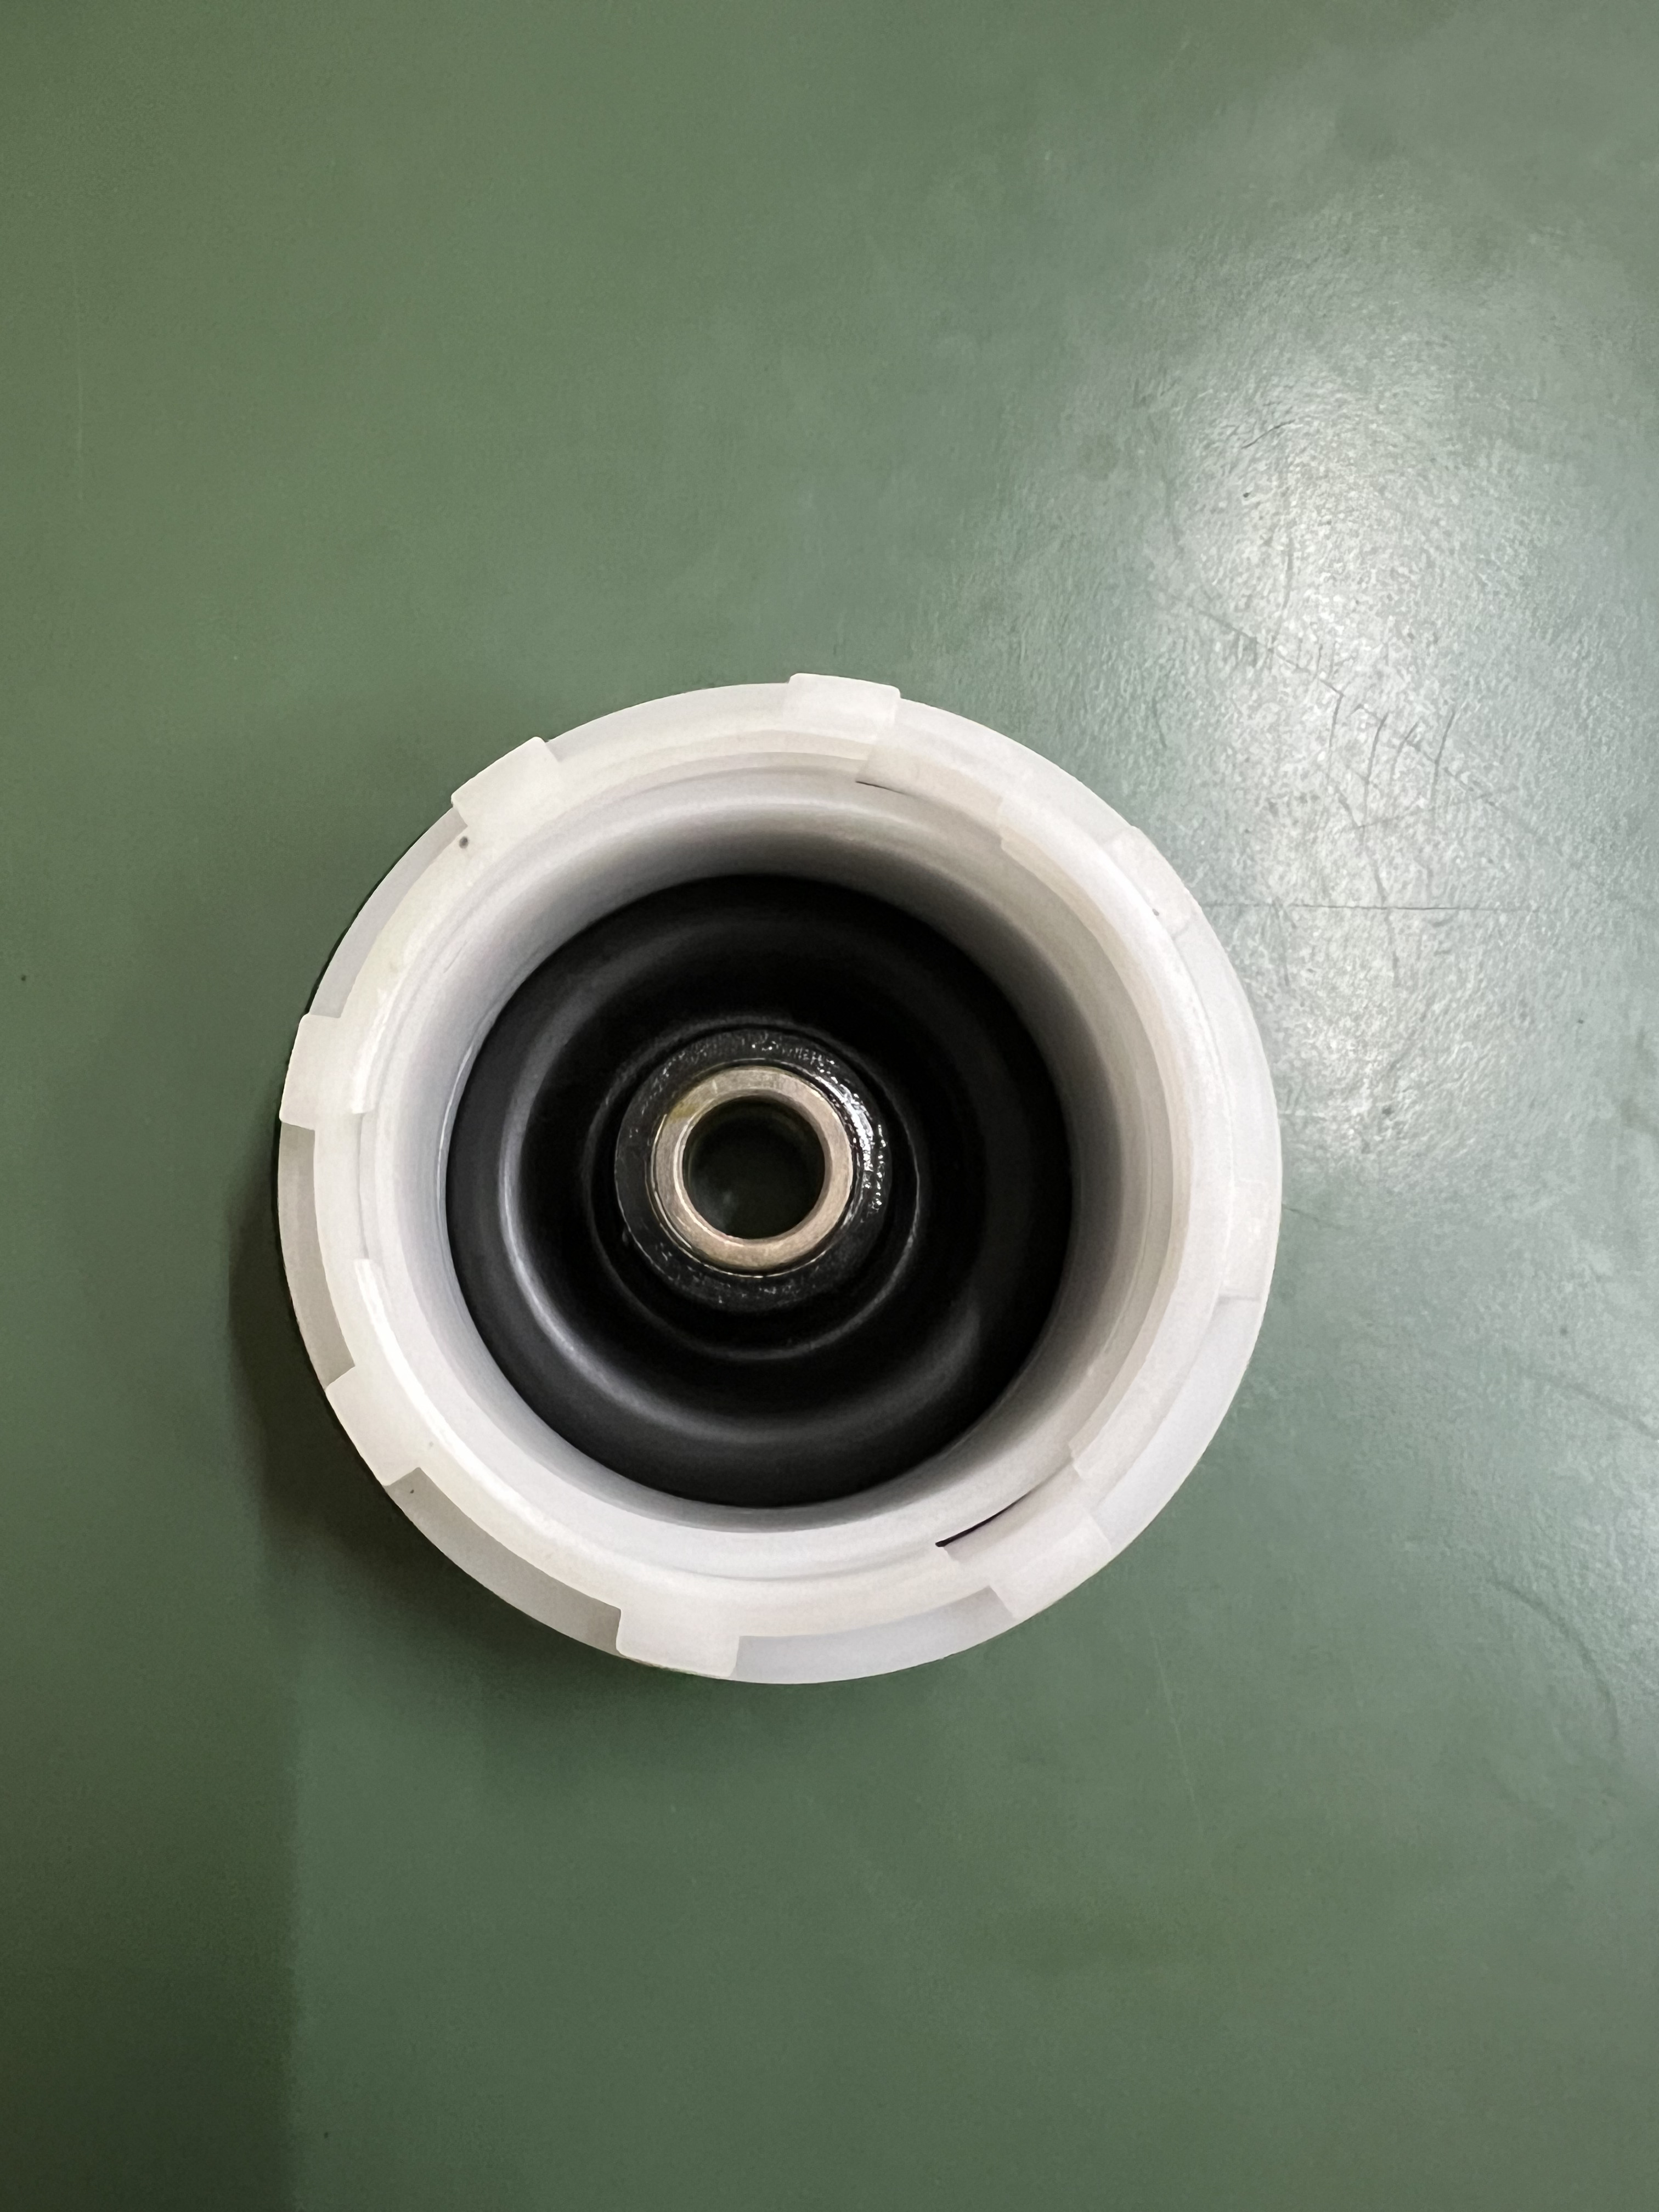lever: (244, 686, 1306, 1706)
